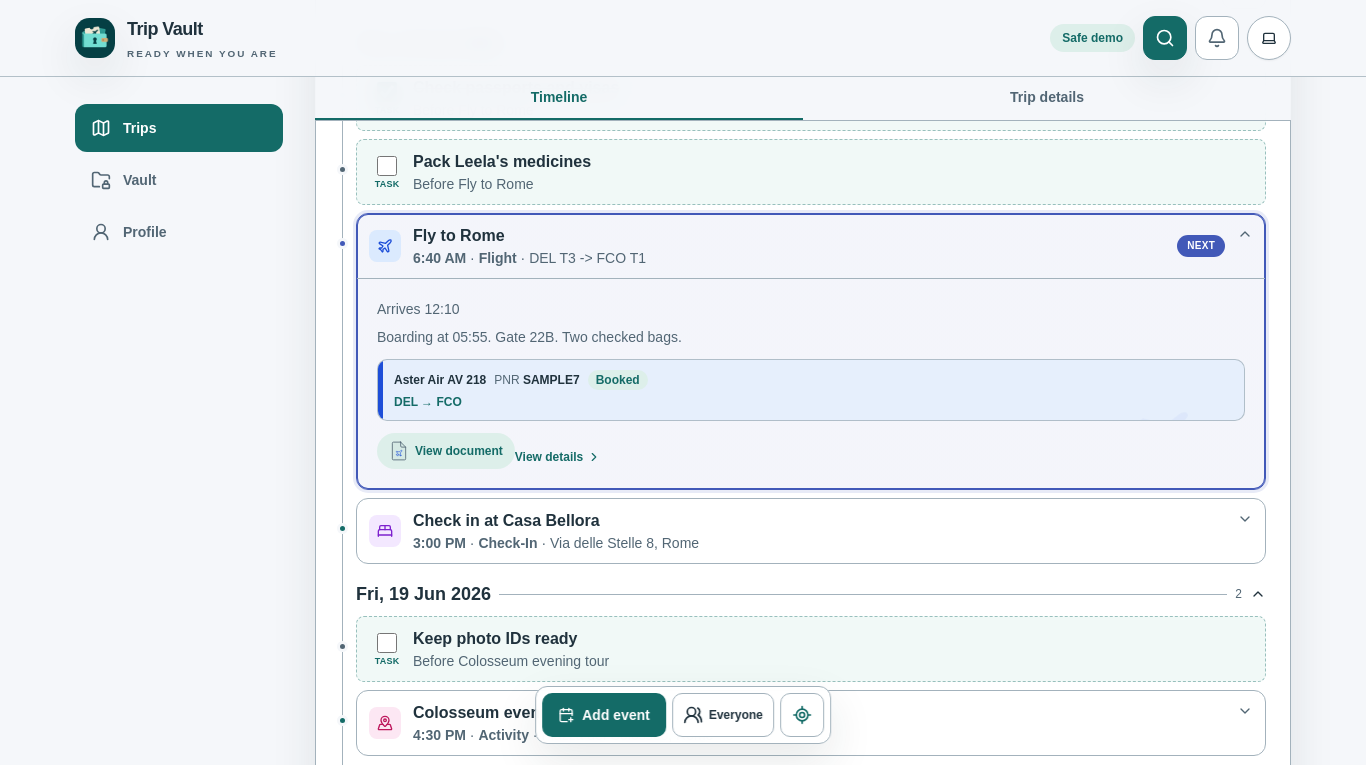
Scenario: Trip Vault › keeps every visible demo action interactive or explicitly sign-in gated
(page scrolled)
Click the button named "open details for fly to rome": (811, 384) [377,299,1245,469]
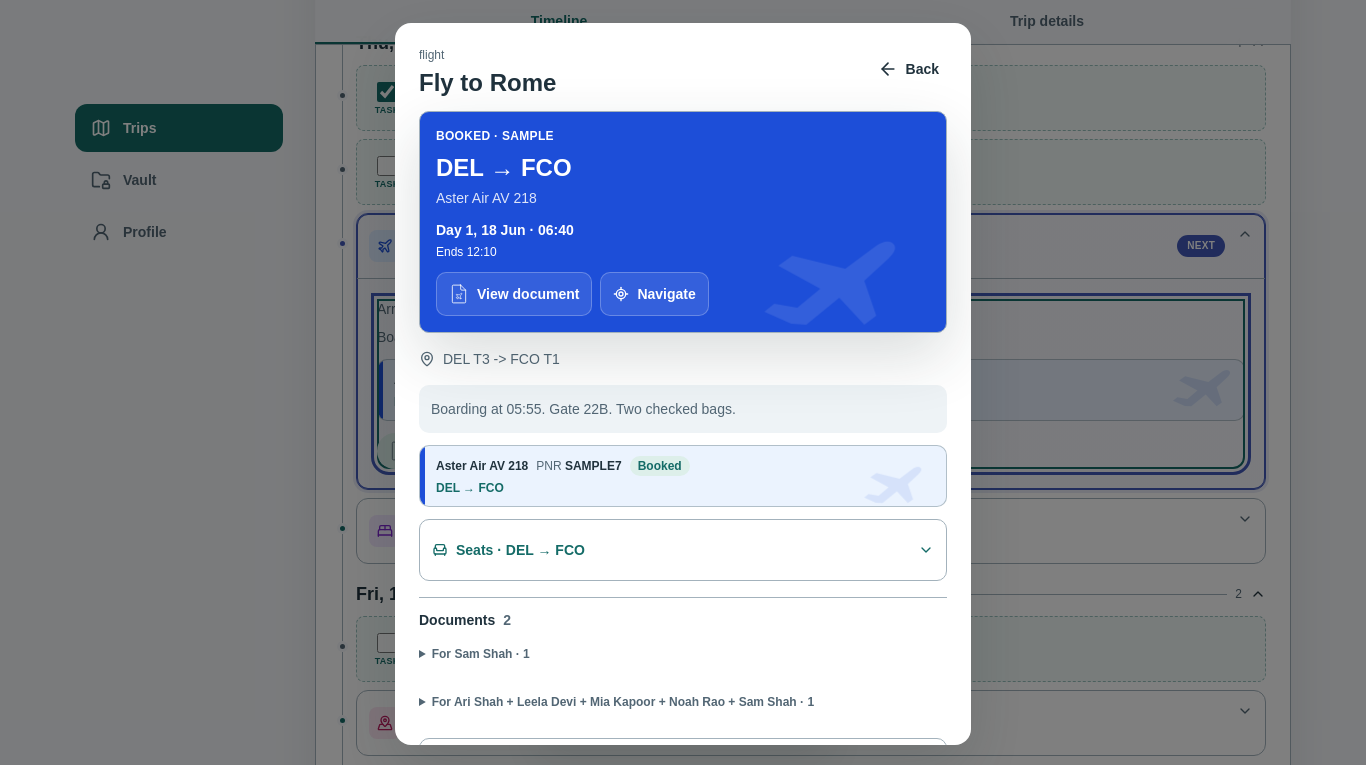
expect the dialog is shown: met, box [395,23,971,745]
expect the button "View document" is shown: met, box [436,272,592,316]
Click the button "Back": (908, 69) [870,47,947,91]
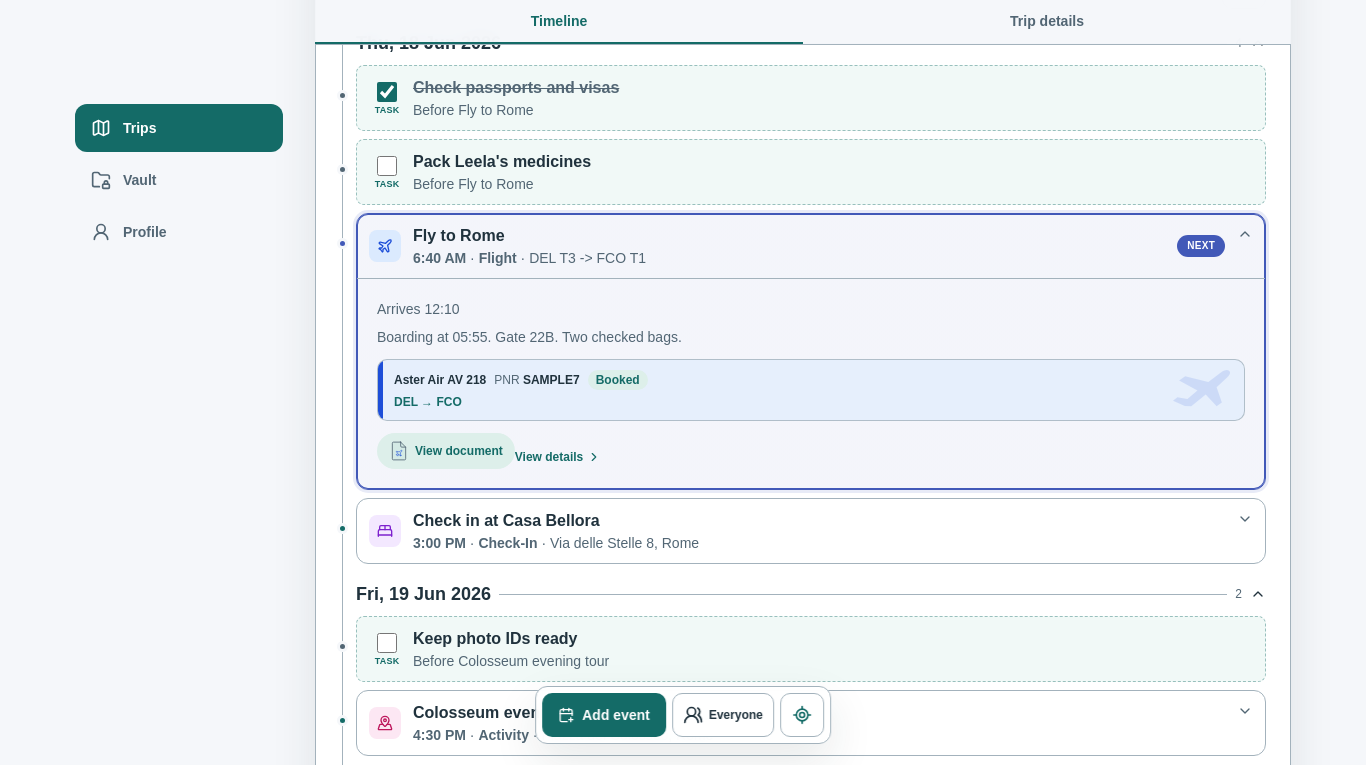
expect the button "Trip details" is shown: met, box [803,0,1291,44]
expect the dialog is gone: met
